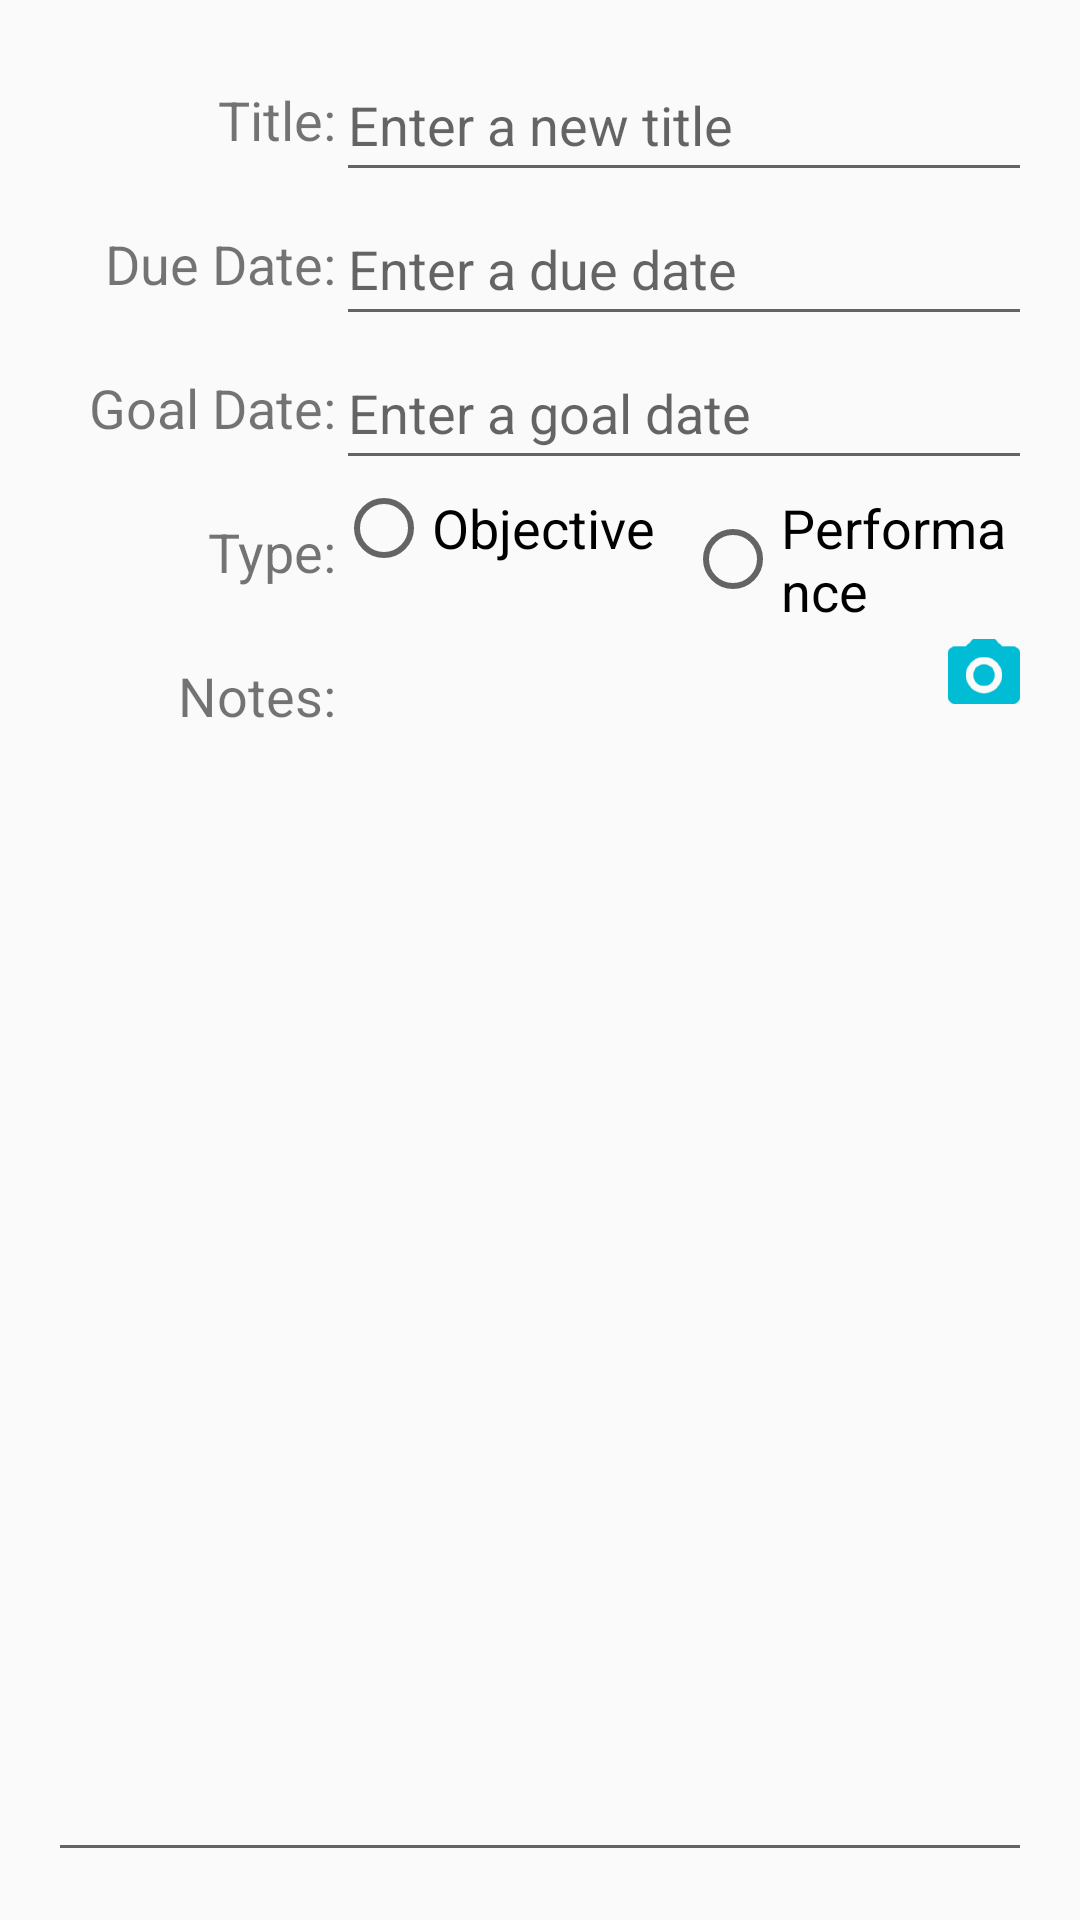

Where to tap for icons on this 1080 x 1920 app screen, as (x,y):
Open the Camera: (984,671)
